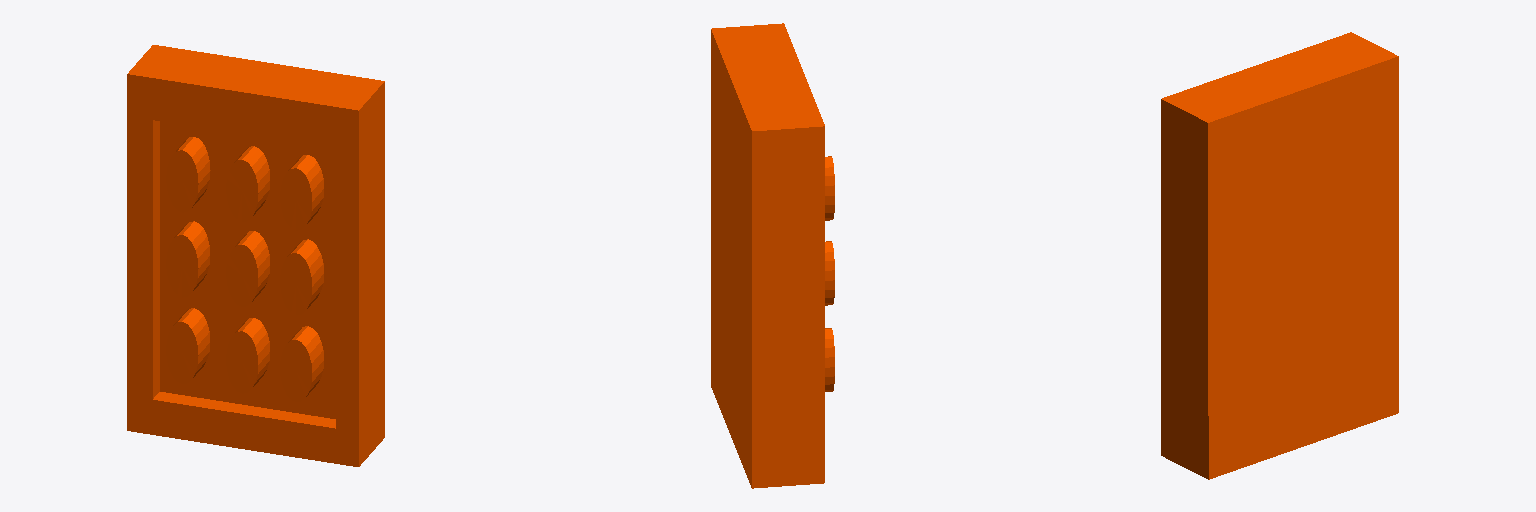
The picture shows the model from 3 angles: view 1: azimuth 30°, elevation 25°; view 2: azimuth 150°, elevation 25°; view 3: azimuth 270°, elevation 25°; orthographic projection.
Visible parts, largest first — view 1: polySurface553; view 2: polySurface553; view 3: polySurface553.
Boxes of the visible parts, x1,y1,x2,y2 form: polySurface553: [127, 45, 384, 466]; polySurface553: [711, 23, 834, 488]; polySurface553: [1161, 32, 1398, 479].
Size of the model in its own units: 61.63 by 113 by 68.32.
Materials: 1 (1 with a texture image).